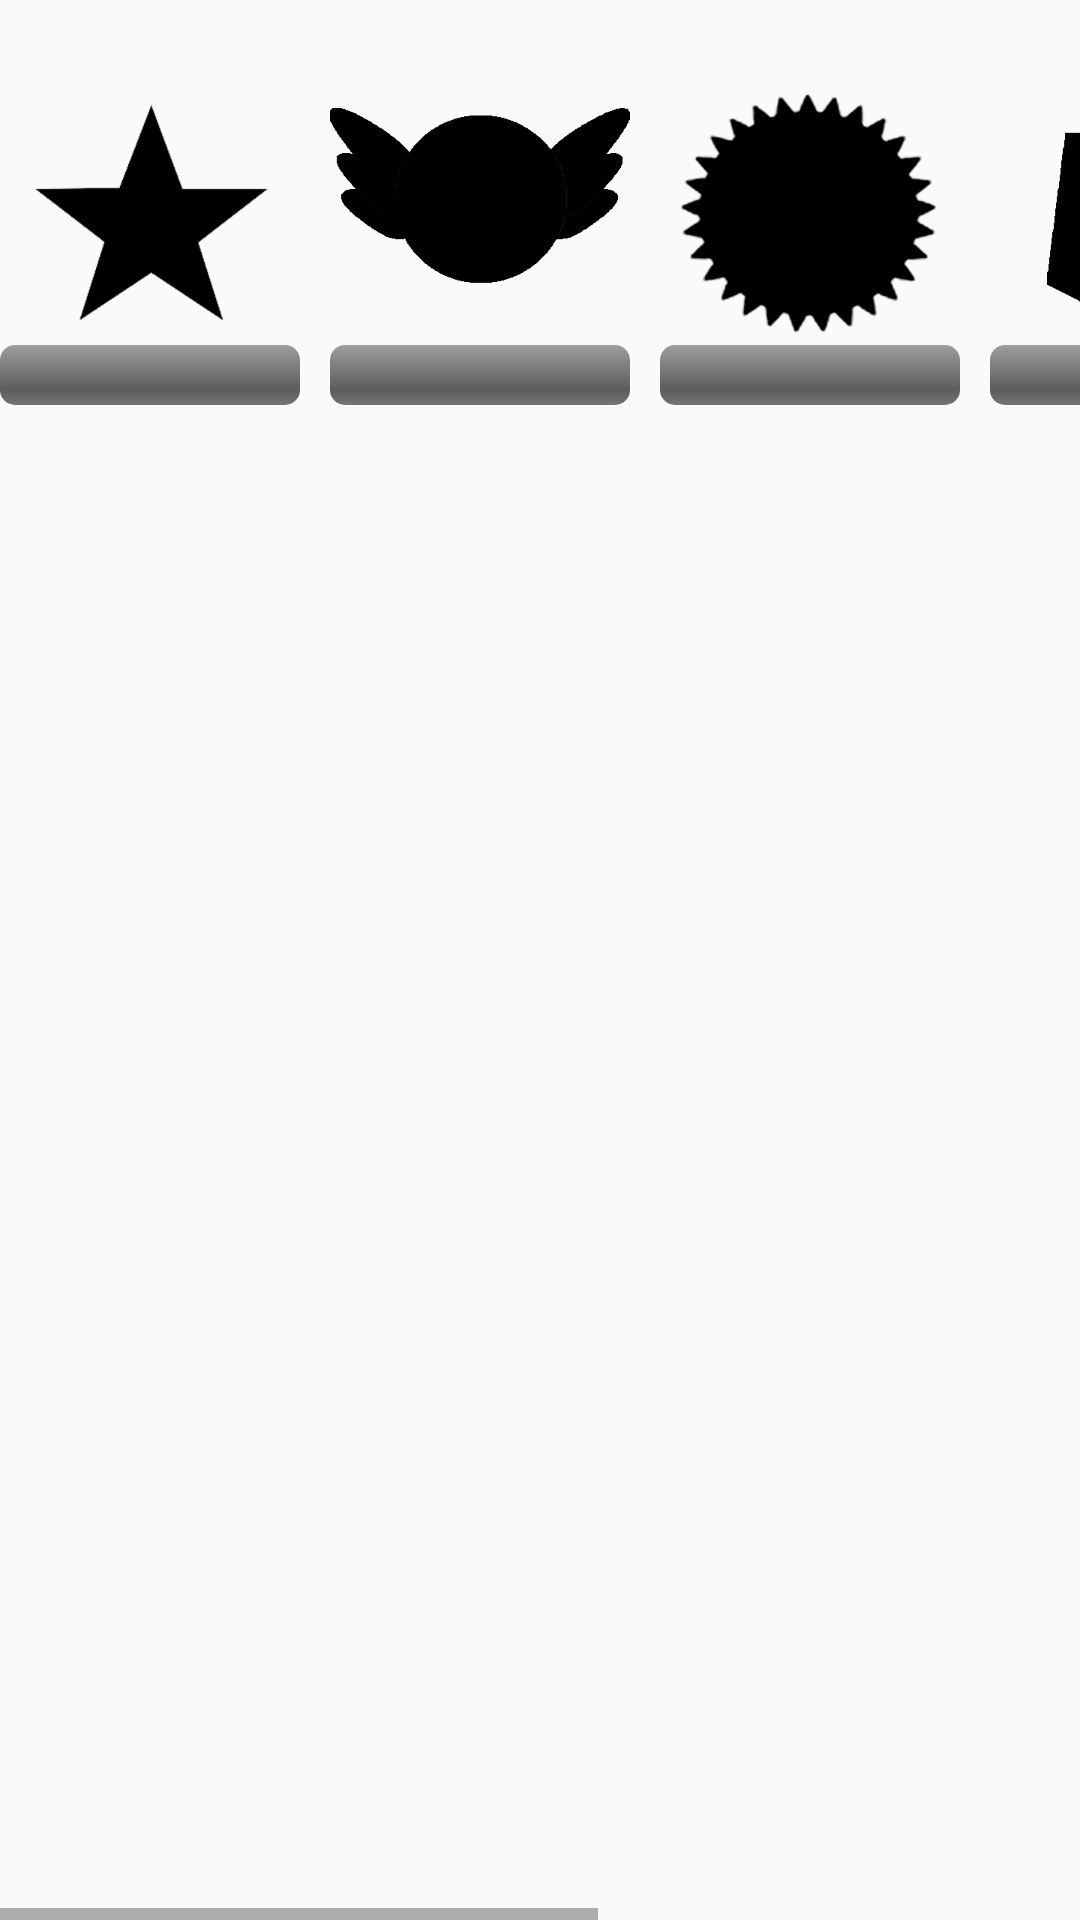

Screen size 1080x1920. Icon name, then its box in pixels as (left=x1, top=y1, right=x2, bottom=y2):
estrela: (left=0, top=105, right=300, bottom=405)
